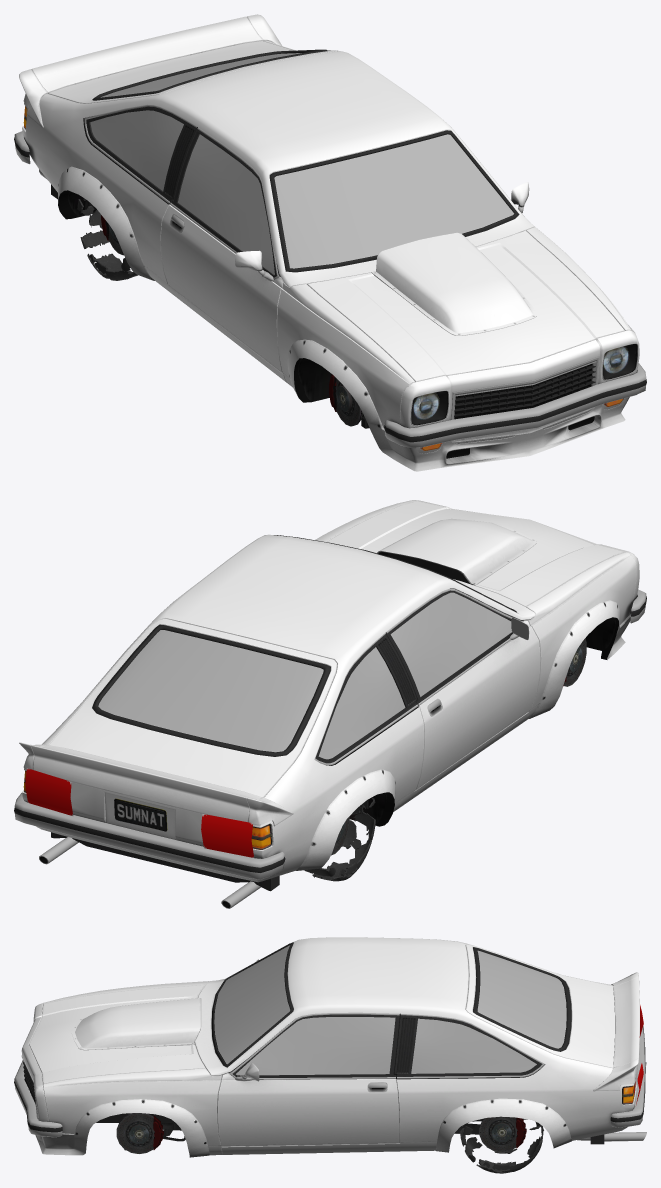
Rendered from 22_Torana.fbx.
The picture shows the model from 3 angles, top to bottom: view 1: azimuth 30°, elevation 25°; view 2: azimuth 150°, elevation 25°; view 3: azimuth 270°, elevation 25°; orthographic projection. The views are drawn at different scales.
Visible parts, largest first — view 1: Body_Duco, Body_Glass, Kit_00_Duco, Kit_Extra, Body_Matte, Body_Chrome, Body_Glossy, Rotor; view 2: Body_Duco, Body_Glass, Kit_00_Duco, Kit_Extra, Body_Matte, Body_Chrome, BrakeLights, NumberPlate; view 3: Body_Duco, Body_Glass, Kit_00_Duco, Kit_Extra, Body_Matte, Body_Chrome, Rotor (×2).
Part boxes in pixels (x1,y1,x2,y2): Body_Duco: [22, 40, 639, 453]; Body_Glass: [90, 53, 514, 275]; Kit_00_Duco: [307, 230, 624, 381]; Kit_Extra: [19, 14, 629, 471]; Body_Matte: [14, 49, 646, 442]; Body_Chrome: [14, 104, 646, 447]; Body_Glossy: [23, 106, 637, 450]; Rotor: [335, 379, 362, 426]; Body_Duco: [22, 500, 639, 882]; Body_Glass: [98, 592, 511, 759]; Kit_00_Duco: [327, 501, 624, 606]; Kit_Extra: [19, 600, 631, 870]; Body_Matte: [14, 535, 646, 907]; Body_Chrome: [14, 588, 646, 908]; BrakeLights: [25, 768, 254, 857]; NumberPlate: [114, 798, 167, 831]; Body_Duco: [21, 937, 637, 1155]; Body_Glass: [214, 945, 566, 1075]; Kit_00_Duco: [29, 984, 205, 1083]; Kit_Extra: [35, 972, 639, 1157]; Body_Matte: [14, 942, 645, 1150]; Body_Chrome: [14, 960, 646, 1141]; Rotor (×2): [116, 1113, 517, 1153].
Size of what is drawn, in the model's own units: 1.89 by 1.26 by 4.52.
